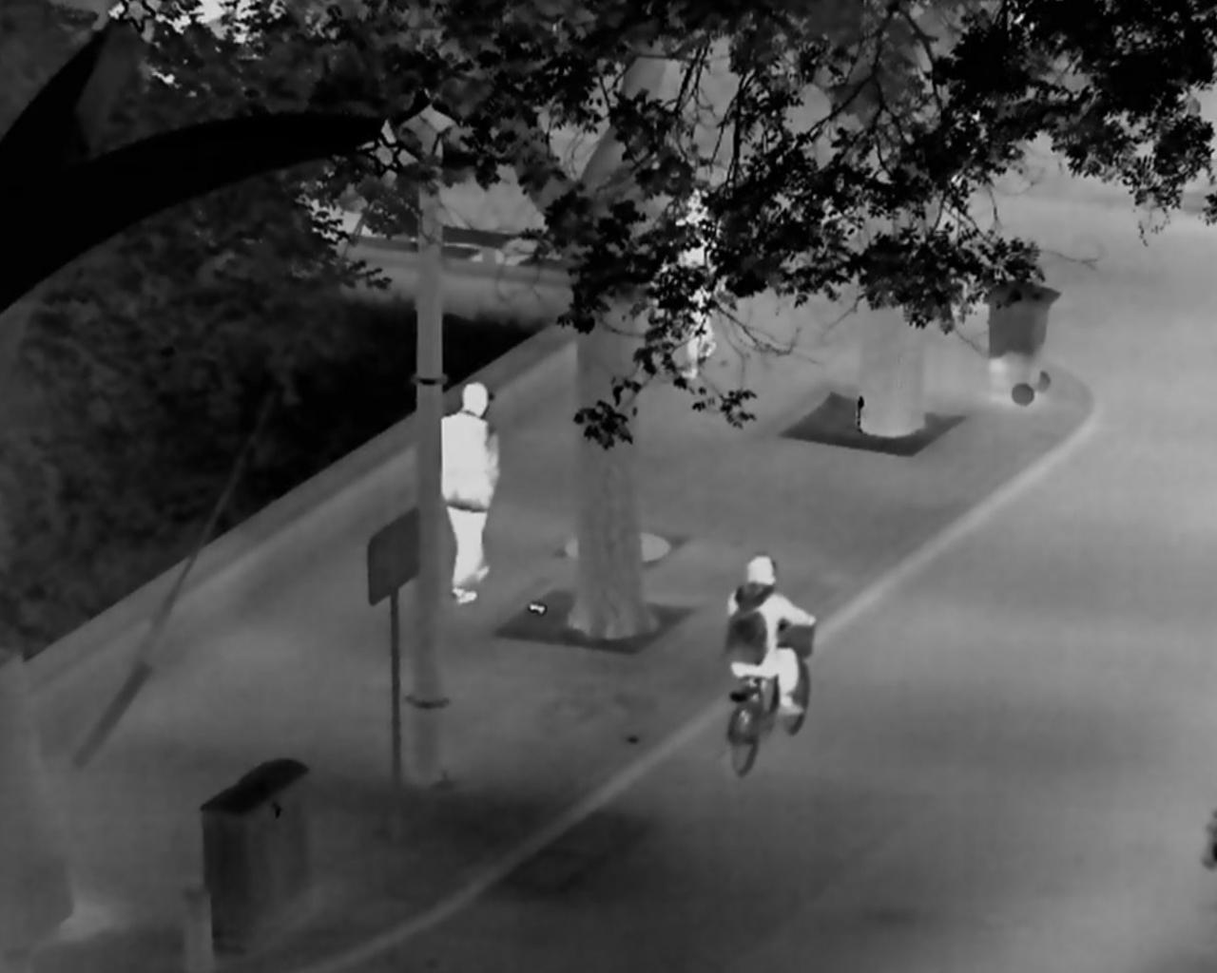person: (725, 552, 815, 717), (440, 380, 502, 606), (660, 186, 720, 378)
